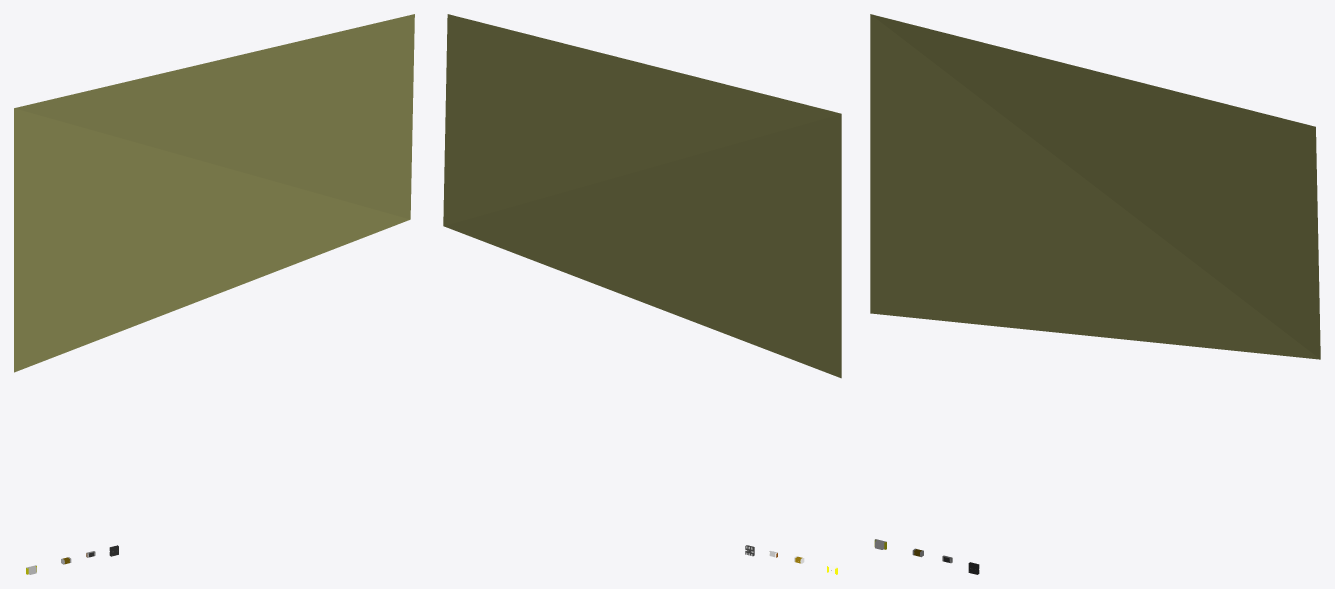
File: OBJ_PCB_project2.obj
3 views of the same model, side by side, from view 1: azimuth 30°, elevation 25°; view 2: azimuth 150°, elevation 25°; view 3: azimuth 330°, elevation 25° (orthographic). The views are drawn at different scales.
Size of the model in its own units: 314 by 353 by 9.01.
